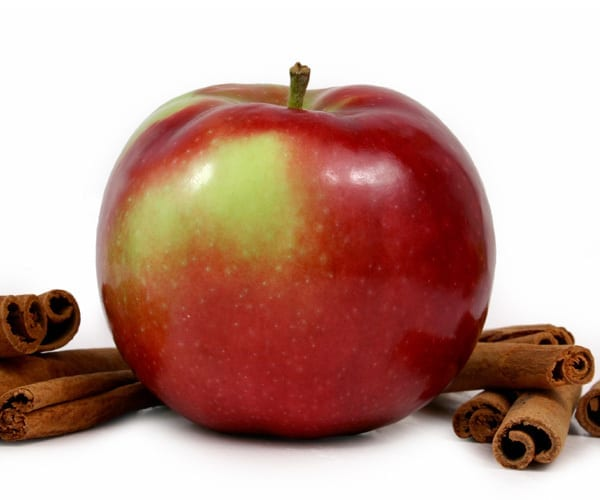apple: (97, 86, 496, 444)
